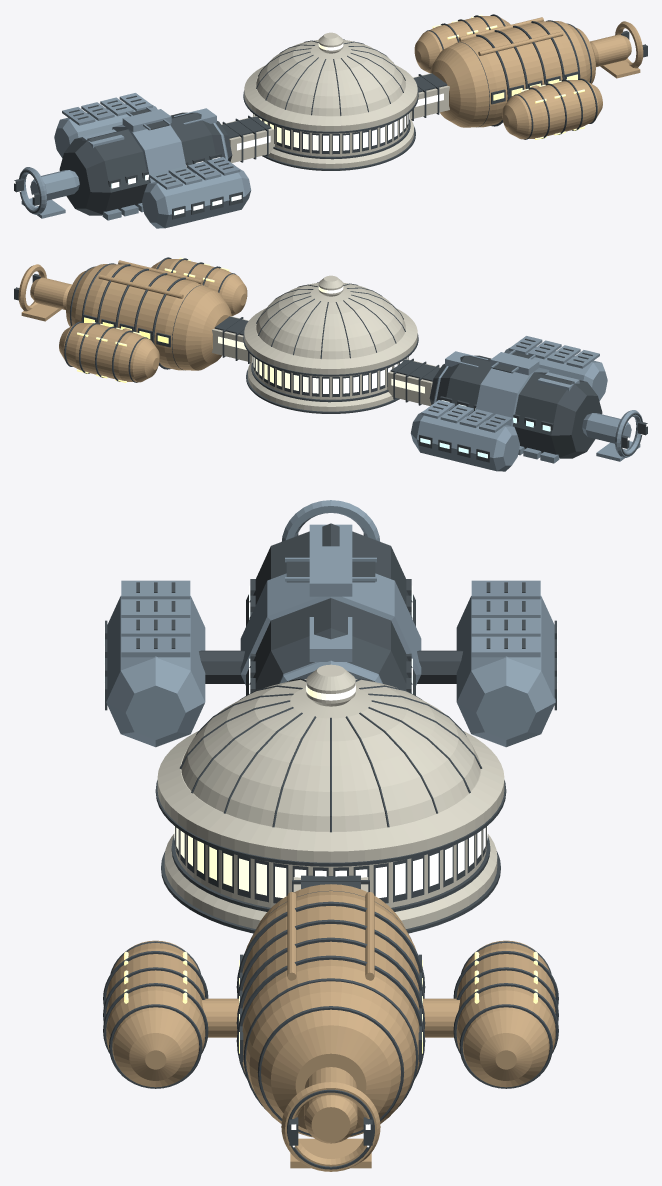
The model's file is neutral_ground.glb.
The picture shows the model from 3 angles, top to bottom: view 1: azimuth 30°, elevation 25°; view 2: azimuth 150°, elevation 25°; view 3: azimuth 270°, elevation 25°; orthographic projection. The views are drawn at different scales.
Visible parts, largest first — view 1: WarmWing | Warm curved hull, CentralHall | Neutral hall limestone, CoolWing | Cool plated hull, CoolWing | Recesses and structural trim, CentralHall | Recesses and structural trim, WarmWing | Recesses and structural trim, CentralHall | Treaty hall windows, WarmWing | Warm wing windows, CoolWing | Cool wing windows; view 2: WarmWing | Warm curved hull, CentralHall | Neutral hall limestone, CoolWing | Cool plated hull, CoolWing | Recesses and structural trim, CentralHall | Recesses and structural trim, WarmWing | Recesses and structural trim, CentralHall | Treaty hall windows, WarmWing | Warm wing windows, CoolWing | Cool wing windows; view 3: WarmWing | Warm curved hull, CentralHall | Neutral hall limestone, CoolWing | Cool plated hull, CoolWing | Recesses and structural trim, WarmWing | Recesses and structural trim, CentralHall | Recesses and structural trim, CentralHall | Treaty hall windows.
Part boxes in pixels (x1,y1,x2,y2): WarmWing | Warm curved hull: (414,16,643,139); CentralHall | Neutral hall limestone: (221,32,449,170); CoolWing | Cool plated hull: (19,93,251,228); CoolWing | Recesses and structural trim: (14,95,242,219); CentralHall | Recesses and structural trim: (221,39,447,170); WarmWing | Recesses and structural trim: (425,14,647,139); CentralHall | Treaty hall windows: (237,43,443,150); WarmWing | Warm wing windows: (432,14,584,139); CoolWing | Cool wing windows: (111,157,241,215); WarmWing | Warm curved hull: (18,259,247,382); CentralHall | Neutral hall limestone: (212,275,440,413); CoolWing | Cool plated hull: (410,336,642,471); CoolWing | Recesses and structural trim: (419,338,647,462); CentralHall | Recesses and structural trim: (214,282,440,413); WarmWing | Recesses and structural trim: (14,257,236,382); CentralHall | Treaty hall windows: (218,286,424,393); WarmWing | Warm wing windows: (77,257,229,382); CoolWing | Cool wing windows: (420,400,550,458); WarmWing | Warm curved hull: (106,884,555,1171); CentralHall | Neutral hall limestone: (157,664,504,928); CoolWing | Cool plated hull: (106,500,555,747); CoolWing | Recesses and structural trim: (105,523,556,710); WarmWing | Recesses and structural trim: (103,890,558,1169); CentralHall | Recesses and structural trim: (155,678,506,933); CentralHall | Treaty hall windows: (174,683,487,897).
Size of the model in its own units: 801 by 156 by 258.
